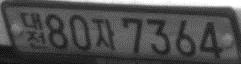0: (69, 14, 91, 50)
3: (146, 18, 171, 54)
4: (198, 20, 223, 59)
6: (175, 19, 197, 57)
7: (121, 16, 143, 53)
8: (46, 13, 68, 50)
대전_V: (19, 11, 46, 50)
자: (91, 17, 116, 51)
